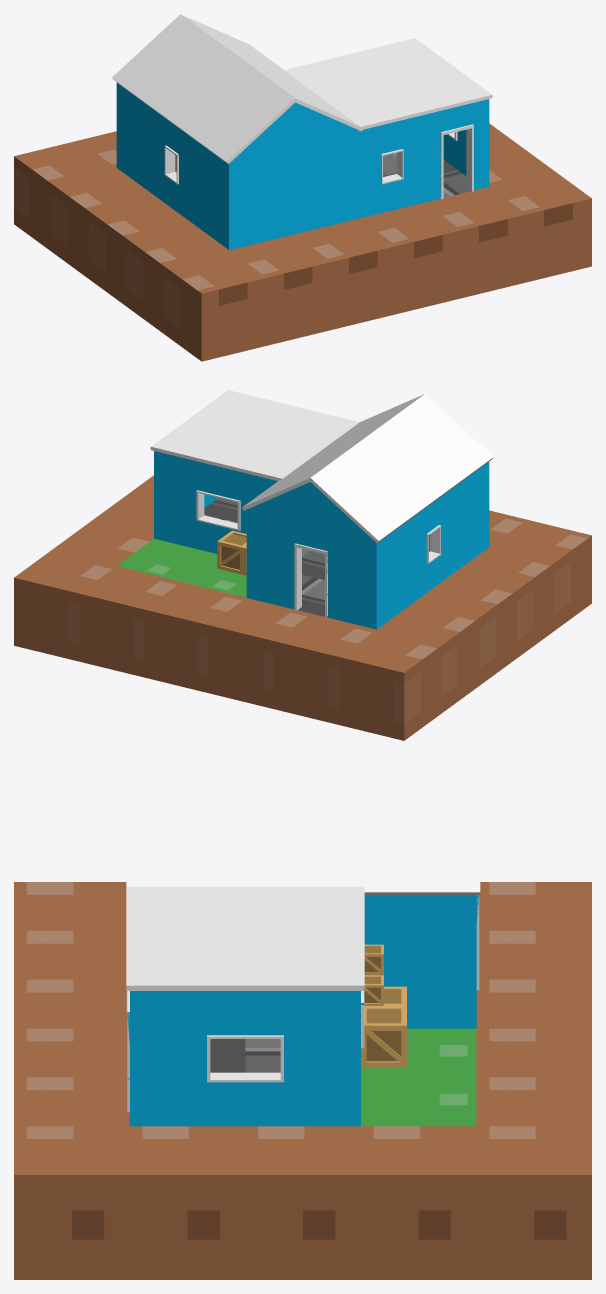
The model's file is SigmaCityTest2.glb.
3 renders of one model, top to bottom at view 1: azimuth 30°, elevation 25°; view 2: azimuth 150°, elevation 25°; view 3: azimuth 270°, elevation 25°, orthographic. The views are drawn at different scales.
Visible parts, largest first — view 1: Dirt.013, CornerWall.001, Dirt.014, Dirt, Dirt.015, Dirt.016, Dirt.017, SlantRoof.005, Wall.002, Window.002, Dirt.012, Dirt.011 (+18 smaller); view 2: Dirt.009, Dirt.008, Dirt.006, Dirt.005, Dirt.004, Dirt.007, LongWindow, SlantRoof.001, Dirt.010, Dirt.012, Dirt.011, Dirt.013 (+25 smaller); view 3: LongWindow.001, Dirt.001, Dirt.003, Dirt, Dirt.002, Dirt.004, SlantRoof, SlantRoof.004, SlantRoof.002, Wall.005, RoofTop.002, RoofTop.003 (+21 smaller).
Part boxes in pixels (left/top/right/bottom): Dirt.013: left=164, top=250, right=266, bottom=361; CornerWall.001: left=191, top=137, right=294, bottom=249; Dirt.014: left=229, top=234, right=331, bottom=345; Dirt: left=489, top=171, right=591, bottom=282; Dirt.015: left=294, top=218, right=396, bottom=329; Dirt.016: left=359, top=202, right=461, bottom=313; Dirt.017: left=425, top=187, right=526, bottom=297; SlantRoof.005: left=187, top=69, right=296, bottom=163; Wall.002: left=294, top=130, right=359, bottom=234; Window.002: left=359, top=115, right=424, bottom=218; Dirt.012: left=126, top=223, right=228, bottom=333; Dirt.011: left=89, top=195, right=191, bottom=306; Dirt.009: left=339, top=629, right=441, bottom=740; Dirt.008: left=274, top=614, right=375, bottom=724; Dirt.006: left=144, top=582, right=246, bottom=693; Dirt.005: left=79, top=566, right=180, bottom=677; Dirt.004: left=14, top=550, right=115, bottom=661; Dirt.007: left=209, top=598, right=311, bottom=708; LongWindow: left=154, top=457, right=271, bottom=553; SlantRoof.001: left=309, top=450, right=416, bottom=543; Dirt.010: left=377, top=602, right=479, bottom=712; Dirt.012: left=452, top=547, right=554, bottom=657; Dirt.011: left=415, top=574, right=516, bottom=685; Dirt.013: left=490, top=519, right=591, bottom=630; LongWindow.001: left=130, top=1000, right=360, bottom=1126; Dirt.001: left=129, top=1126, right=245, bottom=1279; Dirt.003: left=360, top=1126, right=476, bottom=1279; Dirt: left=14, top=1126, right=129, bottom=1279; Dirt.002: left=245, top=1126, right=360, bottom=1279; Dirt.004: left=476, top=1126, right=591, bottom=1279; SlantRoof: left=357, top=769, right=480, bottom=895; SlantRoof.004: left=126, top=769, right=248, bottom=886; SlantRoof.002: left=242, top=769, right=364, bottom=886; Wall.005: left=364, top=895, right=464, bottom=1028; RoofTop.002: left=242, top=933, right=364, bottom=990; RoofTop.003: left=126, top=933, right=248, bottom=990.
Size of the model in its own units: 12 by 6.02 by 10.
Materials: 7 (3 with a texture image).
